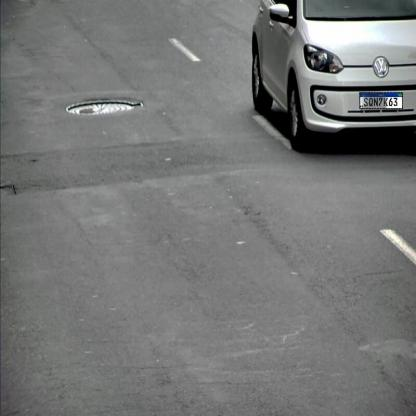PlacaM: (359, 92, 403, 109)
